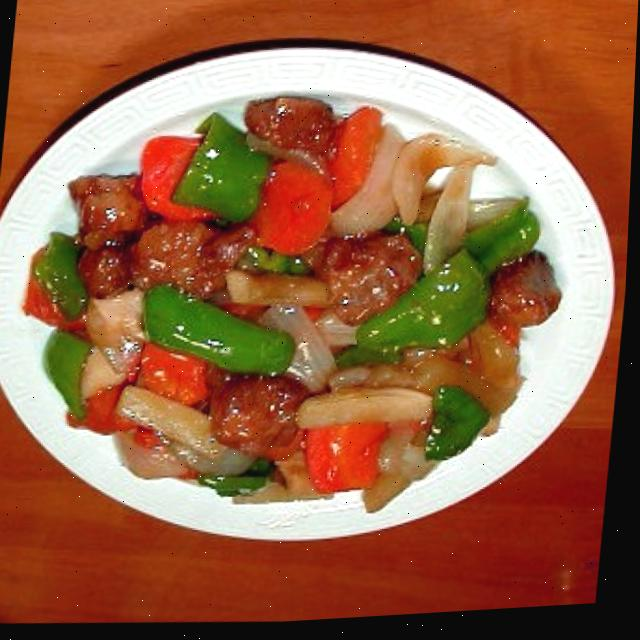猪肉菜式: (0, 13, 638, 596)
